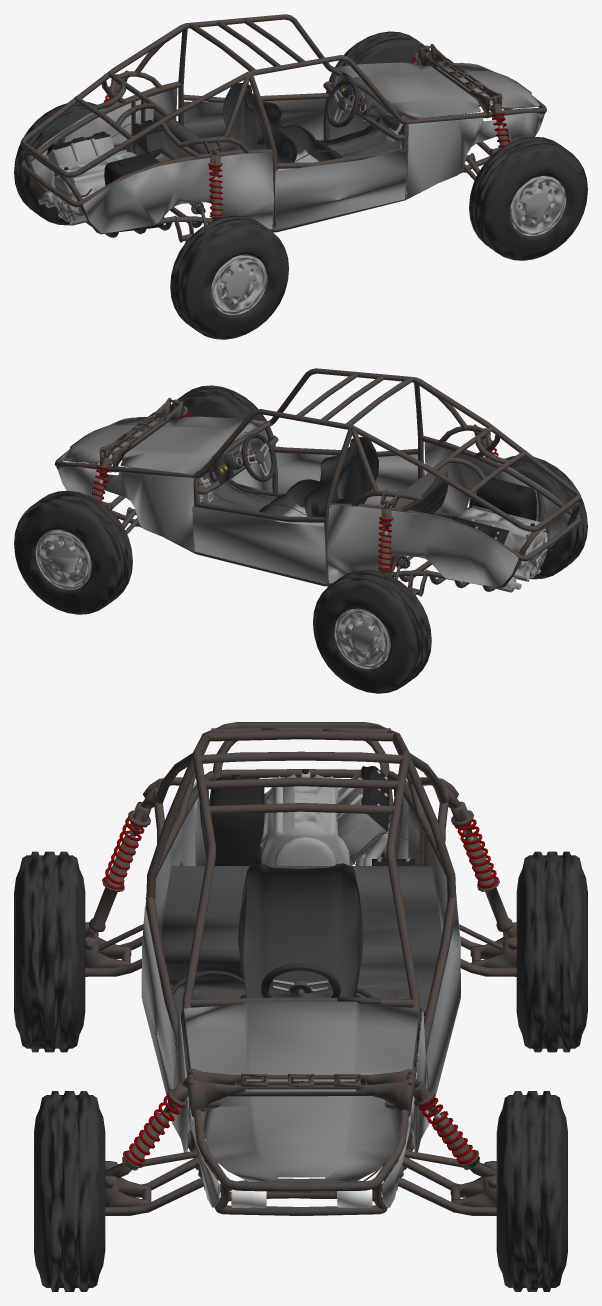
The model's file is dune_runner_stock.glb.
3 renders of one model, top to bottom at view 1: azimuth 30°, elevation 25°; view 2: azimuth 150°, elevation 25°; view 3: azimuth 270°, elevation 25°, orthographic. The views are drawn at different scales.
Parts seen in each view (by area): view 1: body, wheel_RR, wheel_FR, wheel_RL, wheel_FL, steering_wheel; view 2: body, wheel_FL, wheel_RL, wheel_RR, wheel_FR, steering_wheel; view 3: body, wheel_RL, wheel_RR, wheel_FR, wheel_FL, steering_wheel.
Boxes of the visible parts, box(x1,y1,x2,y2) form: body: box(20, 14, 546, 242); wheel_RR: box(170, 215, 288, 339); wheel_FR: box(469, 136, 587, 260); wheel_RL: box(14, 102, 130, 225); wheel_FL: box(326, 31, 431, 92); steering_wheel: box(326, 79, 359, 127); body: box(54, 368, 581, 596); wheel_FL: box(14, 490, 132, 614); wheel_RL: box(313, 569, 431, 693); wheel_RR: box(469, 456, 587, 579); wheel_FR: box(170, 385, 275, 446); steering_wheel: box(242, 433, 275, 481); body: box(85, 722, 516, 1215); wheel_RL: box(516, 851, 587, 1052); wheel_RR: box(14, 851, 85, 1052); wheel_FR: box(34, 1091, 105, 1291); wheel_FL: box(496, 1091, 567, 1291); steering_wheel: box(261, 963, 340, 997).
Bounding box in the file's own units: 3.32 × 1.41 × 2.11.
